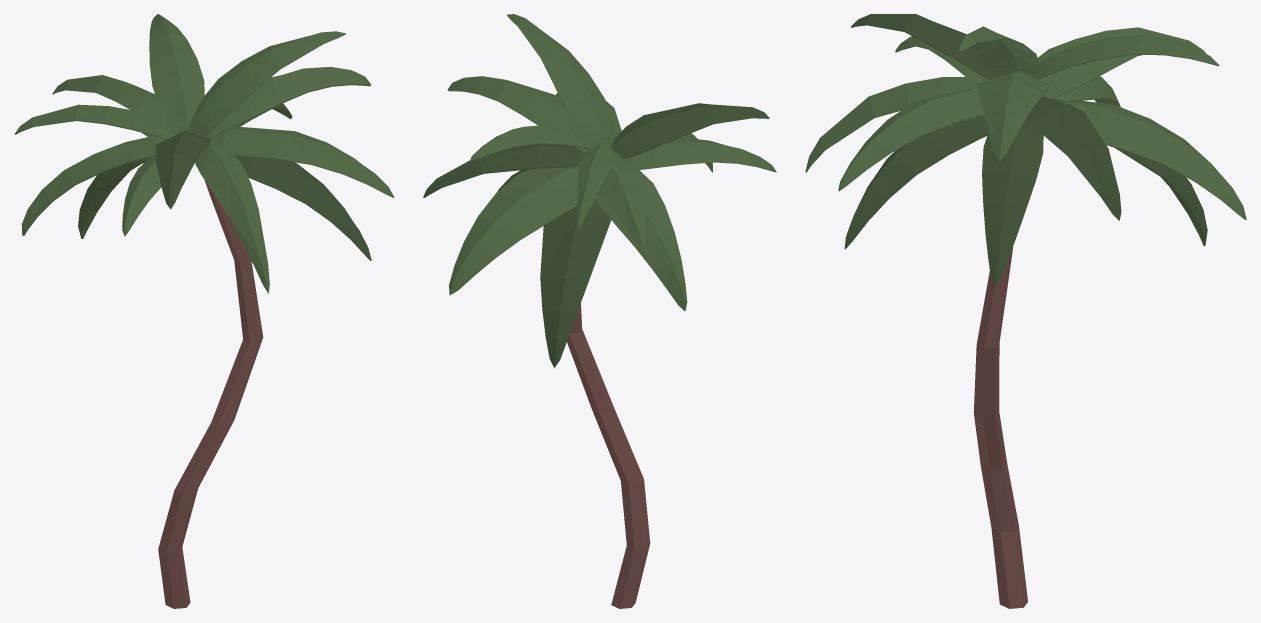
File: PalmTree_Harvested.glb
3 renders of one model, left to right at view 1: azimuth 30°, elevation 25°; view 2: azimuth 150°, elevation 25°; view 3: azimuth 270°, elevation 25°, orthographic. The views are drawn at different scales.
Visible parts, largest first — view 1: PalmTree_Harvested; view 2: PalmTree_Harvested; view 3: PalmTree_Harvested.
Boxes of the visible parts, x1,y1,x2,y2 form: PalmTree_Harvested: (14, 14, 394, 608); PalmTree_Harvested: (423, 14, 776, 608); PalmTree_Harvested: (805, 14, 1246, 608).
Bounding box in the file's own units: 1.81 × 3.25 × 2.04.
